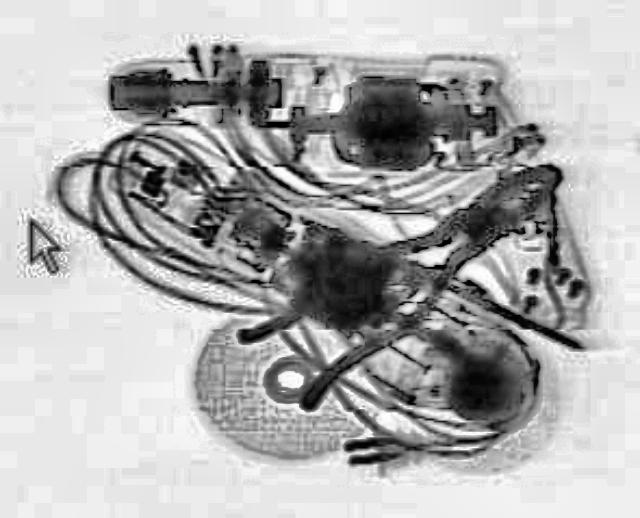Pliers: (215, 132, 602, 410)
